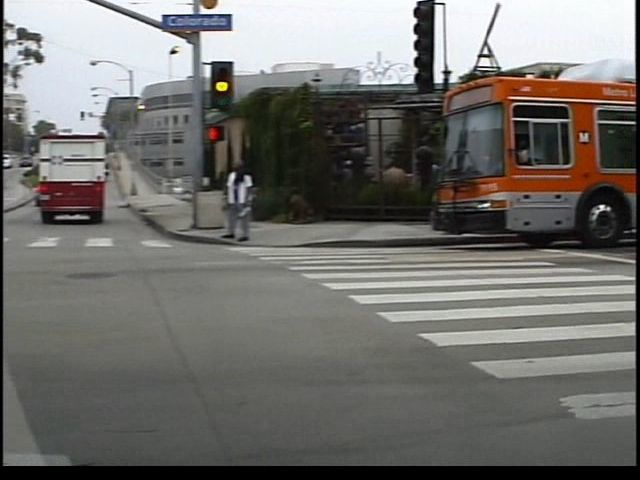person: (233, 157, 267, 244)
